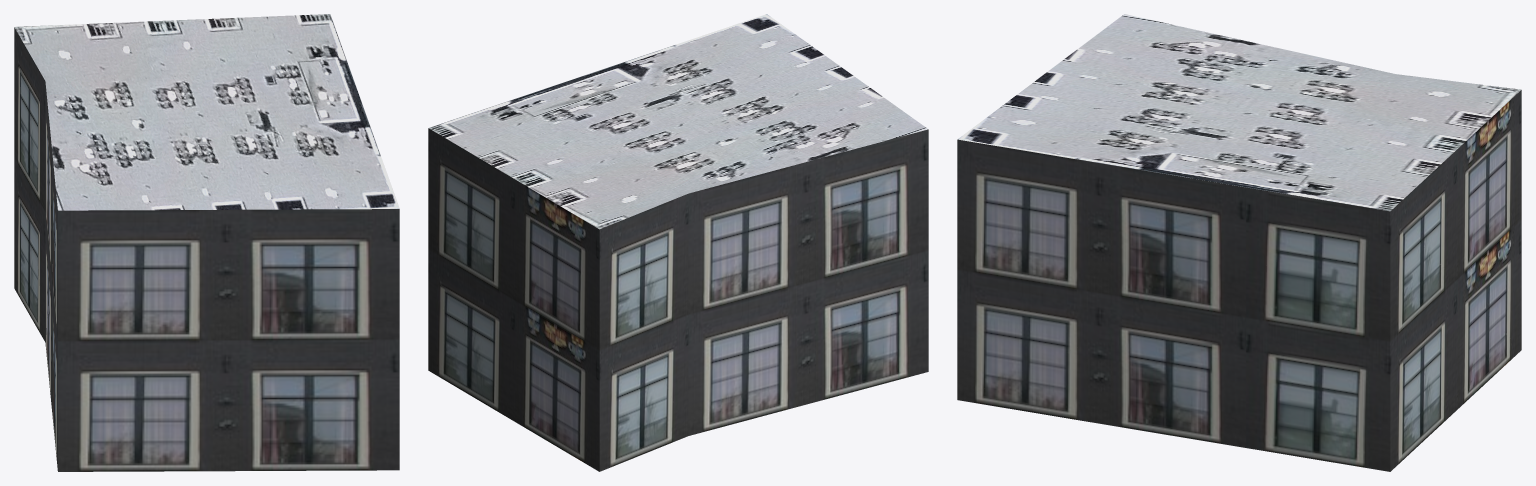
File: ResTex__2553.fbx
3 renders of one model, left to right at view 1: azimuth 30°, elevation 25°; view 2: azimuth 150°, elevation 25°; view 3: azimuth 270°, elevation 25°, orthographic. The views are drawn at different scales.
Visible parts, largest first — view 1: CityEngineMaterial_22_m, CityEngineMaterial_8_m; view 2: CityEngineMaterial_22_m, CityEngineMaterial_8_m; view 3: CityEngineMaterial_22_m, CityEngineMaterial_8_m.
Boxes of the visible parts, x1,y1,x2,y2 form: CityEngineMaterial_22_m: (14,27,399,471); CityEngineMaterial_8_m: (14,14,399,210); CityEngineMaterial_22_m: (428,128,928,471); CityEngineMaterial_8_m: (428,14,928,229); CityEngineMaterial_22_m: (957,90,1521,471); CityEngineMaterial_8_m: (957,14,1520,211).
Bounding box in the file's own units: 9.75 × 6 × 11.78.
2 materials, 2 textured.
